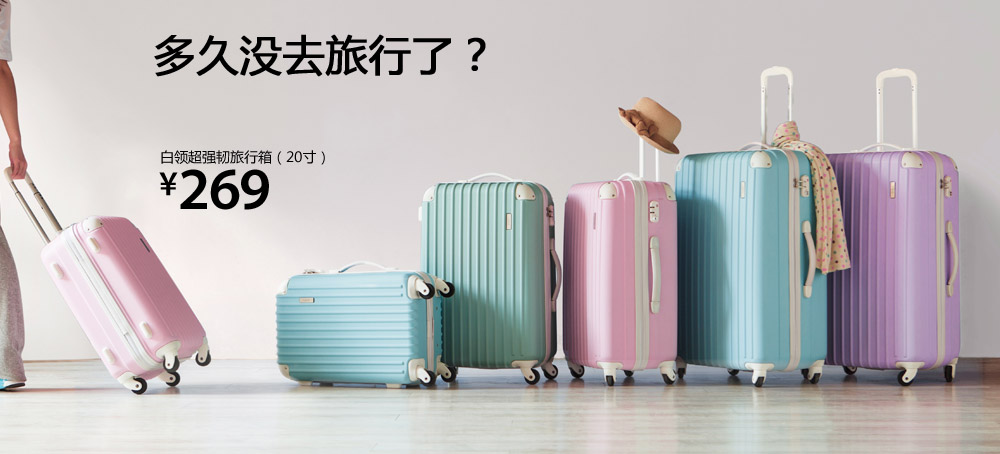suitcase: (274, 263, 457, 388)
